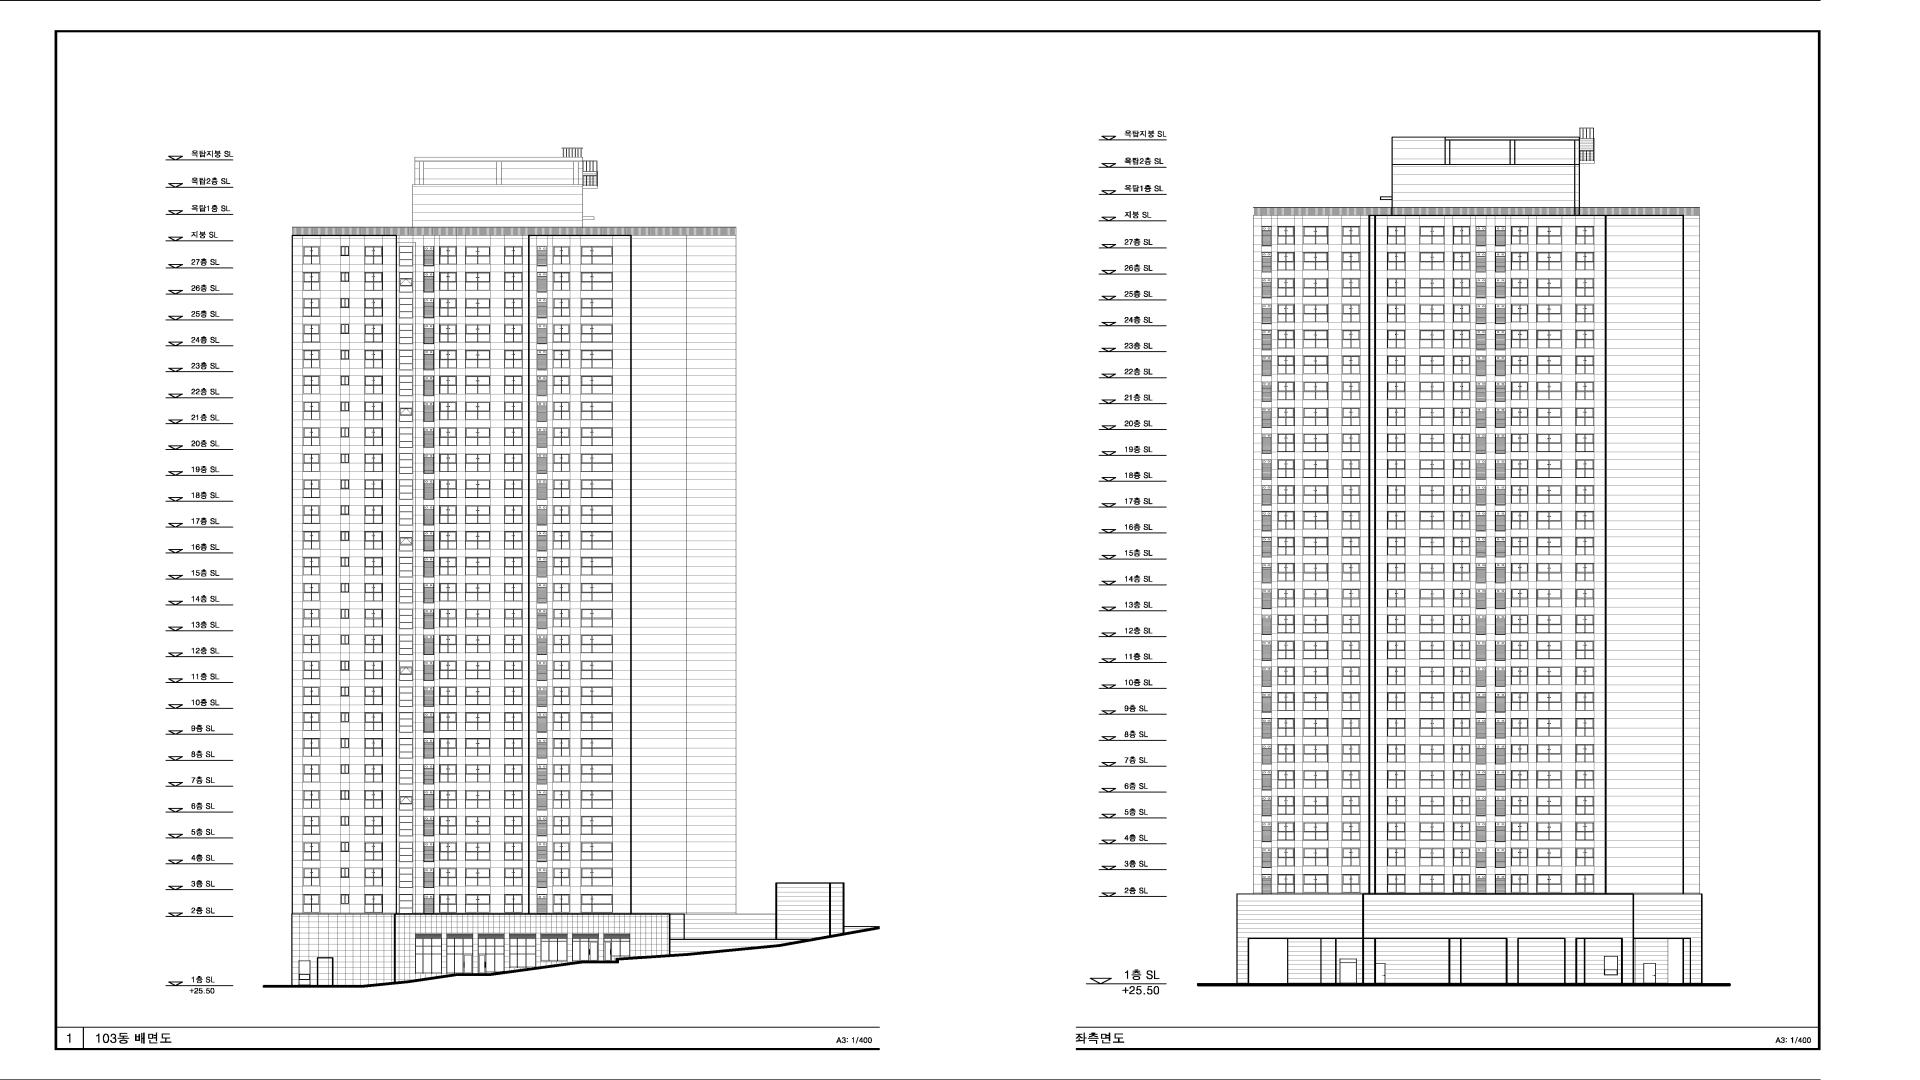door: (1248, 938, 1289, 984), (1667, 938, 1684, 984), (317, 957, 334, 985), (1339, 958, 1357, 983), (1643, 963, 1656, 983), (1376, 963, 1386, 983), (589, 941, 598, 961), (464, 953, 473, 973), (478, 953, 486, 973), (604, 941, 611, 961)
wall: (292, 157, 879, 988), (1236, 137, 1702, 986)
window: (415, 938, 442, 974), (509, 938, 536, 968), (486, 938, 505, 972), (580, 712, 613, 731), (580, 738, 613, 757), (581, 246, 613, 265), (580, 324, 612, 343), (581, 453, 613, 472), (581, 479, 613, 498), (580, 505, 612, 524), (580, 531, 612, 550), (580, 764, 612, 783), (581, 790, 613, 809), (580, 816, 612, 835), (581, 842, 613, 861), (581, 894, 613, 913), (541, 938, 567, 961), (580, 376, 613, 394), (580, 428, 613, 446), (580, 557, 613, 575), (580, 687, 613, 705), (580, 272, 612, 290), (580, 298, 612, 316), (580, 350, 612, 368), (580, 402, 612, 420), (580, 583, 612, 601), (580, 609, 612, 627), (580, 635, 612, 653), (581, 661, 613, 679), (580, 868, 612, 886), (447, 938, 463, 974), (465, 894, 491, 913), (465, 738, 491, 757), (465, 686, 491, 705), (465, 505, 491, 524), (465, 246, 491, 265), (1536, 874, 1562, 893), (1536, 796, 1562, 815), (1536, 770, 1562, 789), (1536, 744, 1562, 763), (1536, 718, 1562, 737), (1536, 692, 1562, 711), (1536, 666, 1562, 685), (1536, 485, 1562, 504), (1536, 459, 1562, 478), (1536, 433, 1562, 452), (1536, 407, 1562, 426), (1536, 355, 1562, 374), (1536, 278, 1562, 297), (1419, 226, 1445, 245), (1419, 252, 1445, 271), (1419, 304, 1445, 323), (1419, 381, 1445, 400), (1419, 459, 1445, 478), (1419, 485, 1445, 504), (1419, 511, 1445, 530), (1419, 563, 1445, 582), (1419, 666, 1445, 685), (1419, 718, 1445, 737), (1419, 744, 1445, 763), (1419, 770, 1445, 789), (1419, 874, 1445, 893), (1302, 718, 1328, 737), (465, 790, 490, 809), (465, 764, 490, 783), (465, 712, 490, 731), (465, 531, 490, 550), (465, 479, 490, 498), (465, 453, 490, 472), (465, 375, 490, 394), (465, 298, 490, 317), (1420, 692, 1445, 711), (1303, 874, 1328, 893), (1303, 796, 1328, 815), (1303, 770, 1328, 789), (1303, 744, 1328, 763), (1303, 692, 1328, 711), (1303, 563, 1328, 582), (1303, 485, 1328, 504), (1303, 355, 1328, 374), (1303, 252, 1328, 271), (1303, 226, 1328, 245), (465, 661, 491, 679), (465, 609, 491, 627), (465, 272, 491, 290), (1536, 848, 1562, 866), (1536, 822, 1562, 840), (1536, 641, 1562, 659), (1536, 615, 1562, 633), (1536, 589, 1562, 607), (1536, 563, 1562, 581), (1536, 537, 1562, 555), (1536, 511, 1562, 529), (1536, 382, 1562, 400), (1536, 330, 1562, 348), (1536, 252, 1562, 270), (1536, 226, 1562, 244), (1419, 278, 1445, 296), (1419, 330, 1445, 348), (1419, 408, 1445, 426), (1419, 434, 1445, 452), (1419, 537, 1445, 555), (1419, 589, 1445, 607), (1419, 615, 1445, 633), (1419, 641, 1445, 659), (1419, 796, 1445, 814), (1419, 848, 1445, 866), (465, 868, 490, 886), (465, 842, 490, 860), (465, 816, 490, 834), (465, 635, 490, 653), (465, 583, 490, 601), (465, 557, 490, 575), (465, 428, 490, 446), (465, 402, 490, 420), (465, 350, 490, 368), (465, 324, 490, 342), (1537, 304, 1562, 322), (1420, 356, 1445, 374), (1420, 822, 1445, 840), (1303, 848, 1328, 866), (1303, 822, 1328, 840), (1303, 667, 1328, 685), (1303, 641, 1328, 659), (1303, 615, 1328, 633), (1303, 589, 1328, 607), (1303, 537, 1328, 555), (1303, 511, 1328, 529), (1303, 460, 1328, 478), (1303, 434, 1328, 452), (1303, 408, 1328, 426), (1303, 382, 1328, 400), (1303, 330, 1328, 348), (1303, 304, 1328, 322), (1303, 278, 1328, 296), (572, 938, 589, 961), (364, 479, 383, 498), (364, 453, 383, 472), (504, 298, 523, 317), (504, 375, 523, 394), (504, 453, 523, 472), (504, 479, 523, 498), (504, 505, 523, 524), (504, 660, 523, 679), (504, 686, 523, 705), (504, 712, 523, 731), (504, 816, 523, 835), (504, 894, 523, 913), (364, 764, 383, 783), (364, 712, 383, 731), (364, 686, 383, 705), (364, 505, 383, 524), (1341, 485, 1360, 504), (1342, 770, 1361, 789), (1387, 874, 1406, 893), (1387, 692, 1406, 711), (1387, 666, 1406, 685), (1387, 511, 1406, 530), (1387, 459, 1406, 478), (1387, 433, 1406, 452), (1387, 355, 1406, 374), (1387, 226, 1406, 245), (302, 298, 320, 317), (302, 712, 320, 731), (302, 738, 320, 757), (302, 764, 320, 783), (364, 428, 383, 446), (364, 402, 383, 420), (364, 376, 383, 394), (364, 350, 383, 368), (364, 324, 383, 342), (364, 298, 383, 316), (364, 272, 383, 290), (364, 246, 383, 264), (504, 246, 523, 264), (504, 272, 523, 290), (504, 324, 523, 342), (504, 350, 523, 368), (504, 402, 523, 420), (504, 428, 523, 446), (504, 531, 523, 549), (504, 557, 523, 575), (504, 583, 523, 601), (504, 609, 523, 627), (504, 635, 523, 653), (504, 738, 523, 756), (504, 764, 522, 783), (504, 790, 523, 808), (504, 842, 523, 860), (504, 868, 523, 886), (439, 427, 457, 446), (439, 479, 457, 498), (439, 505, 457, 524), (439, 686, 457, 705), (439, 738, 457, 757), (439, 764, 457, 783), (439, 790, 457, 809), (364, 894, 383, 912), (364, 868, 383, 886), (364, 842, 383, 860), (364, 816, 383, 834), (364, 790, 383, 808), (364, 738, 383, 756), (364, 661, 383, 679), (364, 635, 383, 653), (364, 609, 383, 627), (364, 583, 383, 601), (364, 557, 383, 575), (364, 531, 383, 549), (439, 246, 457, 265), (439, 298, 457, 317), (1277, 459, 1295, 478), (1277, 355, 1295, 374), (1277, 304, 1295, 323), (1277, 278, 1295, 297), (1277, 226, 1295, 245), (1342, 226, 1360, 245), (1342, 278, 1360, 297), (1342, 355, 1360, 374), (1342, 459, 1360, 478), (1342, 511, 1360, 530), (1342, 641, 1361, 659), (1342, 666, 1360, 685), (1342, 692, 1360, 711), (1342, 718, 1360, 737), (1342, 874, 1360, 893), (1387, 822, 1406, 840), (1387, 796, 1405, 815), (1387, 770, 1406, 788), (1387, 744, 1405, 763), (1387, 718, 1405, 737), (1387, 615, 1406, 633), (1387, 485, 1405, 504), (1387, 382, 1406, 400), (1387, 330, 1406, 348), (1387, 304, 1406, 322), (1387, 278, 1406, 296), (1387, 252, 1406, 270), (1452, 692, 1470, 711), (1452, 744, 1470, 763), (1452, 874, 1470, 893), (1511, 692, 1529, 711), (1510, 563, 1528, 582), (1511, 459, 1529, 478), (1510, 278, 1528, 297), (1575, 433, 1593, 452), (1576, 692, 1594, 711), (1575, 770, 1593, 789), (1576, 796, 1594, 815), (1277, 874, 1295, 893), (1277, 822, 1295, 841), (1277, 796, 1295, 815), (1277, 770, 1295, 789), (1277, 744, 1295, 763), (1277, 718, 1295, 737), (1277, 666, 1295, 685), (1277, 589, 1295, 608), (1277, 563, 1295, 582), (1277, 511, 1295, 530), (1277, 485, 1295, 504), (302, 272, 320, 290), (302, 324, 320, 342), (302, 376, 320, 394), (302, 402, 320, 420), (302, 428, 320, 446), (302, 531, 320, 549), (302, 583, 320, 601), (302, 816, 320, 834), (612, 938, 630, 956), (439, 454, 457, 472), (439, 531, 457, 549), (439, 557, 457, 575), (439, 609, 457, 627), (439, 661, 457, 679), (439, 816, 457, 834), (439, 868, 457, 886), (552, 842, 570, 860), (552, 635, 570, 653), (552, 609, 570, 627), (439, 324, 457, 342), (439, 350, 457, 368), (1277, 434, 1295, 452), (1277, 408, 1295, 426), (1277, 382, 1295, 400), (1277, 330, 1295, 348), (1277, 252, 1295, 270), (1342, 252, 1360, 270), (1342, 304, 1360, 322), (1342, 330, 1360, 348), (1342, 382, 1360, 400), (1342, 408, 1360, 426), (1342, 434, 1360, 452), (1342, 537, 1360, 555), (1342, 563, 1360, 581), (1342, 589, 1360, 607), (1342, 615, 1360, 633), (1342, 745, 1360, 763), (1342, 796, 1360, 814), (1342, 822, 1360, 840), (1342, 848, 1360, 866), (1387, 848, 1405, 866), (1387, 641, 1405, 659), (1387, 589, 1405, 607), (1387, 563, 1405, 581), (1387, 537, 1405, 555), (1387, 408, 1405, 426), (1453, 226, 1471, 244), (1452, 252, 1470, 270), (1452, 304, 1470, 322), (1452, 330, 1470, 348), (1453, 356, 1471, 374), (1453, 382, 1471, 400), (1453, 408, 1471, 426), (1453, 434, 1471, 452), (1452, 460, 1470, 478), (1452, 511, 1470, 529), (1452, 563, 1470, 581), (1452, 589, 1470, 607), (1452, 615, 1470, 633), (1453, 770, 1471, 788), (1452, 848, 1470, 866), (1510, 848, 1528, 866), (1510, 718, 1528, 736), (1510, 537, 1528, 555), (1511, 485, 1529, 503), (1511, 434, 1529, 452), (1511, 408, 1529, 426), (1510, 304, 1528, 322), (1511, 252, 1529, 270), (1576, 226, 1594, 244), (1575, 330, 1593, 348), (1575, 356, 1593, 374), (1575, 511, 1593, 529), (1576, 589, 1594, 607), (1575, 641, 1593, 659), (1576, 822, 1594, 840), (1576, 874, 1594, 892), (1277, 848, 1295, 866), (1277, 693, 1295, 711), (1277, 641, 1295, 659), (1277, 615, 1295, 633), (1277, 537, 1295, 555), (303, 453, 320, 472), (303, 479, 320, 498), (303, 505, 320, 524), (303, 686, 320, 705), (303, 790, 320, 809), (439, 712, 456, 731), (439, 894, 456, 913), (303, 894, 320, 913), (553, 894, 570, 913), (553, 816, 570, 835), (553, 764, 570, 783), (553, 738, 570, 757), (553, 712, 570, 731), (553, 686, 570, 705), (553, 505, 570, 524), (553, 479, 570, 498), (553, 453, 570, 472), (553, 298, 570, 317), (553, 246, 570, 265), (1453, 666, 1470, 685), (1511, 874, 1528, 893), (1511, 770, 1528, 789), (1511, 744, 1528, 763), (1511, 666, 1528, 685), (1511, 511, 1528, 530), (1511, 355, 1528, 374), (1576, 278, 1593, 297), (1576, 459, 1593, 478), (1576, 666, 1593, 685), (1576, 718, 1593, 737), (1576, 744, 1593, 763), (303, 246, 320, 264), (303, 350, 320, 368), (303, 557, 320, 575), (303, 609, 320, 627), (303, 635, 320, 653), (303, 661, 320, 679), (303, 842, 320, 860), (439, 583, 456, 601), (439, 635, 456, 653), (439, 842, 456, 860), (303, 868, 320, 886), (553, 868, 570, 886), (553, 790, 570, 808), (553, 661, 570, 679), (553, 583, 570, 601), (553, 557, 570, 575), (553, 531, 570, 549), (553, 428, 570, 446), (553, 402, 570, 420), (553, 376, 570, 394), (553, 350, 570, 368), (553, 324, 570, 342), (553, 272, 570, 290), (439, 272, 456, 290), (439, 376, 456, 394), (439, 402, 456, 420), (1453, 278, 1470, 296), (1453, 485, 1470, 503), (1453, 537, 1470, 555), (1453, 641, 1470, 659), (1453, 718, 1470, 736), (1453, 796, 1470, 814), (1453, 822, 1470, 840), (1511, 822, 1528, 840), (1511, 796, 1528, 814), (1511, 641, 1528, 659), (1511, 615, 1528, 633), (1511, 589, 1528, 607), (1511, 382, 1528, 400), (1511, 330, 1528, 348), (1511, 226, 1528, 244), (1576, 252, 1593, 270), (1576, 304, 1593, 322), (1576, 382, 1593, 400), (1576, 408, 1593, 426), (1576, 485, 1593, 503), (1576, 537, 1593, 555), (1576, 563, 1593, 581), (1576, 615, 1593, 633), (1576, 848, 1593, 866), (299, 960, 311, 985), (399, 453, 413, 474), (399, 738, 413, 759), (399, 764, 413, 785), (399, 868, 413, 888), (399, 246, 413, 266), (399, 272, 413, 292), (399, 298, 413, 318), (399, 324, 413, 344), (399, 350, 413, 370), (399, 376, 413, 396), (399, 402, 413, 422), (399, 428, 413, 448), (399, 479, 413, 499), (399, 505, 413, 525), (399, 531, 413, 551), (399, 557, 413, 577), (399, 583, 413, 603), (399, 609, 413, 629), (399, 635, 413, 655), (399, 661, 413, 681), (399, 687, 413, 707), (399, 712, 413, 732), (399, 790, 413, 810), (399, 816, 413, 836), (399, 842, 413, 862), (399, 894, 413, 913), (1604, 956, 1618, 975), (423, 428, 435, 448), (423, 324, 435, 344), (423, 272, 435, 292), (536, 427, 547, 448), (536, 453, 547, 474), (423, 764, 434, 785), (423, 686, 434, 707), (423, 479, 434, 500), (1261, 485, 1272, 506), (1261, 563, 1272, 584), (1261, 666, 1272, 687), (1261, 718, 1272, 739), (1261, 796, 1272, 817), (1475, 770, 1486, 791), (1475, 718, 1486, 739), (1475, 692, 1486, 713), (1475, 666, 1486, 687), (1475, 640, 1486, 661), (1475, 563, 1486, 584), (1475, 485, 1486, 506), (1475, 433, 1486, 454), (1495, 485, 1506, 506), (1495, 770, 1506, 791), (536, 583, 547, 603), (536, 687, 547, 707), (423, 868, 434, 888), (423, 842, 434, 862), (423, 816, 434, 836), (423, 790, 434, 810), (423, 738, 434, 758), (423, 712, 434, 732), (423, 661, 434, 681), (423, 635, 434, 655), (423, 609, 434, 629), (423, 583, 434, 603), (423, 557, 434, 577), (423, 531, 434, 551), (423, 505, 434, 525), (423, 454, 434, 474), (423, 402, 434, 422), (423, 376, 434, 396), (424, 350, 435, 370), (423, 298, 434, 318), (423, 246, 434, 266), (536, 246, 547, 266), (536, 272, 547, 292), (537, 298, 548, 318), (536, 324, 547, 344), (536, 350, 547, 370), (537, 376, 548, 396), (1261, 226, 1272, 246), (1261, 252, 1272, 272), (1261, 278, 1272, 298), (1261, 304, 1272, 324), (1261, 330, 1272, 350), (1261, 356, 1272, 376), (1261, 382, 1272, 402), (1261, 408, 1272, 428), (1261, 434, 1272, 454), (1261, 460, 1272, 480), (1261, 511, 1272, 531), (1261, 537, 1272, 557), (1261, 589, 1272, 609), (1261, 615, 1272, 635), (1261, 641, 1272, 661), (1261, 693, 1272, 713), (1261, 744, 1272, 764), (1261, 771, 1272, 791), (1261, 822, 1272, 842), (1261, 848, 1272, 868), (1261, 874, 1272, 894), (1495, 874, 1506, 894), (1475, 848, 1486, 868), (1475, 615, 1486, 635), (1475, 589, 1486, 609), (1475, 537, 1486, 557), (1475, 408, 1486, 428), (1475, 356, 1486, 376), (1475, 330, 1486, 350), (1475, 226, 1486, 246), (1495, 330, 1506, 350), (1495, 382, 1506, 402), (1495, 408, 1506, 428), (1495, 692, 1506, 712), (1495, 718, 1506, 738), (1495, 822, 1506, 842), (537, 479, 547, 500), (537, 764, 547, 785), (537, 790, 547, 811), (1476, 744, 1486, 765), (1495, 278, 1505, 299), (1495, 459, 1505, 480), (1495, 666, 1505, 687), (1495, 744, 1505, 765), (1495, 796, 1505, 817), (423, 894, 434, 913), (537, 505, 547, 525), (537, 531, 547, 551), (537, 557, 547, 577), (537, 609, 547, 629), (537, 635, 547, 655), (537, 661, 547, 681), (537, 712, 547, 732), (537, 738, 547, 758), (537, 816, 547, 836), (537, 842, 547, 862), (537, 868, 547, 888), (537, 402, 547, 422), (1476, 874, 1486, 894), (1476, 822, 1486, 842), (1476, 796, 1486, 816), (1476, 511, 1486, 531), (1476, 460, 1486, 480), (1476, 382, 1486, 402), (1476, 304, 1486, 324), (1476, 278, 1486, 298), (1476, 252, 1486, 272), (1495, 226, 1505, 246), (1495, 252, 1505, 272), (1495, 304, 1505, 324), (1495, 434, 1505, 454), (1495, 356, 1505, 376), (1495, 511, 1505, 531), (1495, 537, 1505, 557), (1495, 563, 1505, 583), (1495, 589, 1505, 609), (1495, 615, 1505, 635), (1495, 641, 1505, 661), (1495, 848, 1505, 868), (537, 894, 547, 913), (340, 427, 350, 438), (340, 894, 350, 904), (340, 868, 350, 878), (340, 816, 350, 826), (340, 790, 350, 800), (340, 764, 350, 774), (340, 738, 350, 748), (340, 712, 350, 722), (340, 686, 350, 696), (340, 661, 350, 671), (340, 635, 350, 645), (340, 609, 350, 619), (340, 583, 350, 593), (340, 557, 350, 567), (340, 505, 350, 515), (340, 479, 350, 489), (340, 453, 350, 463), (340, 402, 350, 412), (340, 376, 350, 386), (340, 350, 350, 360), (340, 324, 350, 334), (340, 298, 350, 308), (340, 272, 350, 282), (340, 246, 350, 256), (340, 842, 349, 852), (340, 531, 349, 541)
